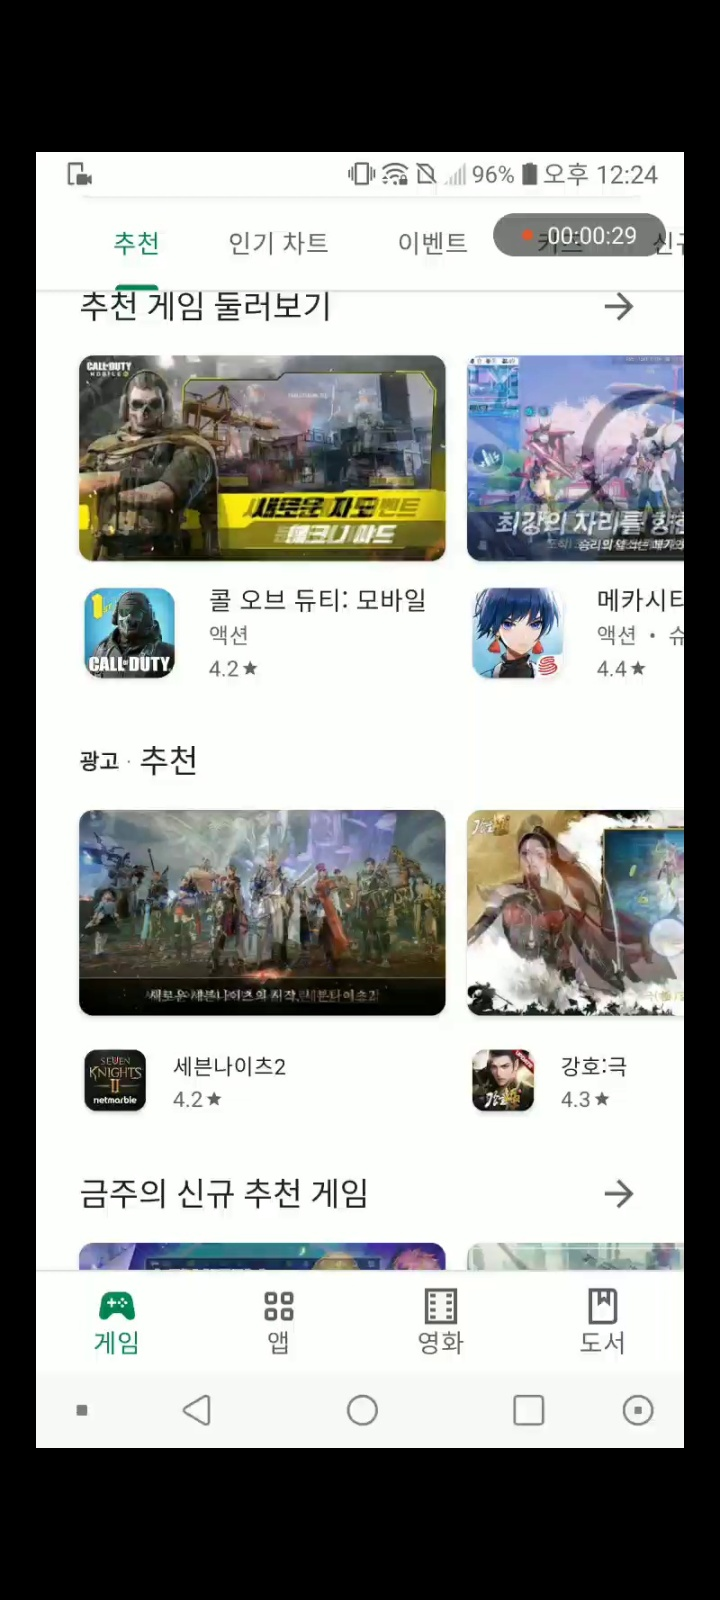Cursor: (647, 916, 684, 962)
